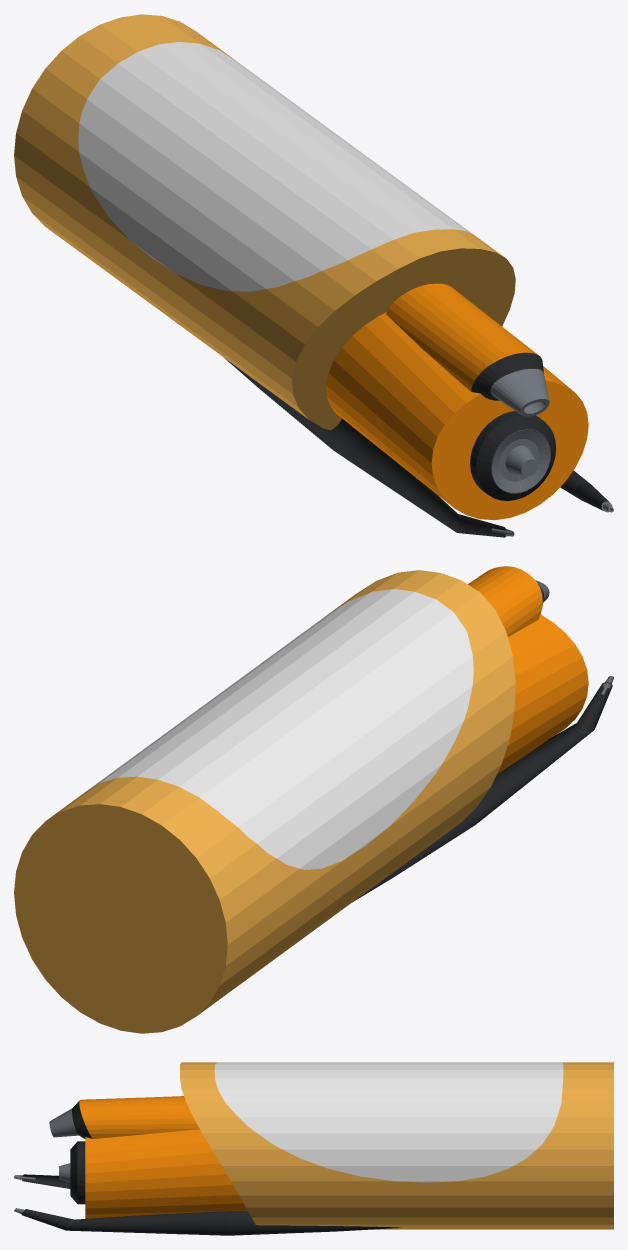
File: massGun.fbx
The picture shows the model from 3 angles, top to bottom: view 1: azimuth 30°, elevation 25°; view 2: azimuth 150°, elevation 25°; view 3: azimuth 270°, elevation 25°; orthographic projection. The views are drawn at different scales.
Visible parts, largest first — view 1: Clamps, Cylinder.004; view 2: Clamps, Cylinder.004; view 3: Clamps, Cylinder.004.
Part boxes in pixels (x1,y1,x2,y2): Clamps: (14, 14, 613, 537); Cylinder.004: (78, 41, 472, 291); Clamps: (14, 566, 613, 1033); Cylinder.004: (88, 589, 473, 869); Clamps: (14, 1062, 613, 1235); Cylinder.004: (214, 1062, 563, 1182).
Bounding box in the file's own units: 327 × 327 × 1172.
